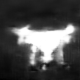plane: (8, 21, 80, 68)
